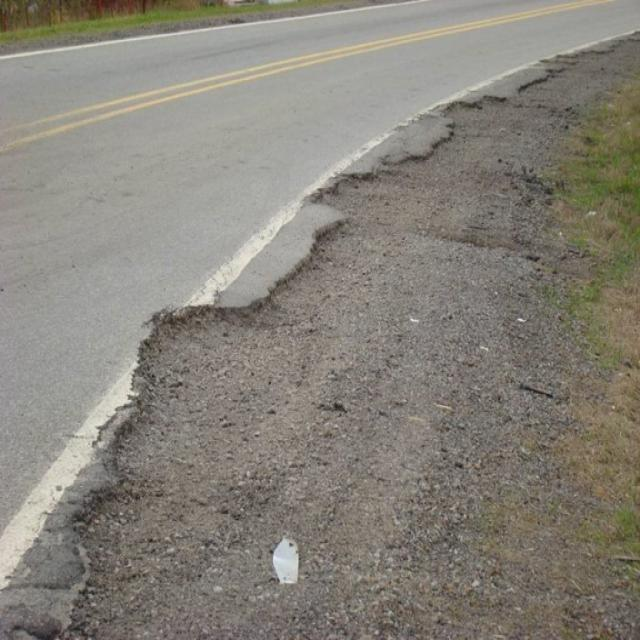Pothole: (12, 12, 640, 640)
